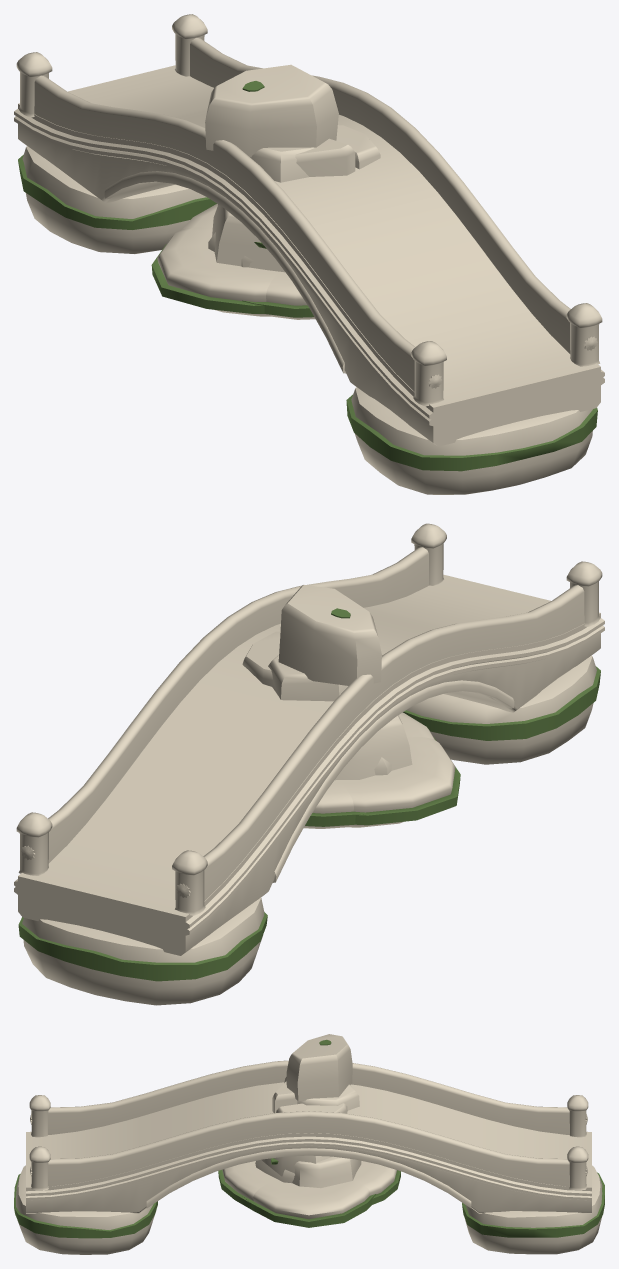
File: BlossomSanctuary_Stones.fbx
The picture shows the model from 3 angles, top to bottom: view 1: azimuth 30°, elevation 25°; view 2: azimuth 150°, elevation 25°; view 3: azimuth 270°, elevation 25°; orthographic projection. The views are drawn at different scales.
Parts seen in each view (by area): view 1: BS_Bridge__Stone, BS_EdgeRockC__Stone, BS_Bridge__Moss, BS_SteppingStoneB__Stone, BS_EdgeRockB__Stone, BS_SteppingStoneB__Moss, BS_SteppingStoneA__Stone, BS_SteppingStoneA__Moss; view 2: BS_Bridge__Stone, BS_EdgeRockC__Stone, BS_Bridge__Moss, BS_SteppingStoneB__Stone, BS_SteppingStoneB__Moss, BS_SteppingStoneA__Stone, BS_EdgeRockB__Stone, BS_SteppingStoneA__Moss; view 3: BS_Bridge__Stone, BS_EdgeRockC__Stone, BS_Bridge__Moss, BS_SteppingStoneB__Stone, BS_SteppingStoneA__Stone, BS_EdgeRockA__Stone, BS_EdgeRockB__Stone, BS_SteppingStoneB__Moss, BS_SteppingStoneA__Moss.
Boxes of the visible parts, x1=… form: BS_Bridge__Stone: x1=14, y1=14, x2=604, y2=494; BS_EdgeRockC__Stone: x1=205, y1=64, x2=338, y2=272; BS_Bridge__Moss: x1=18, y1=154, x2=597, y2=471; BS_SteppingStoneB__Stone: x1=157, y1=227, x2=283, y2=316; BS_EdgeRockB__Stone: x1=208, y1=125, x2=380, y2=267; BS_SteppingStoneB__Moss: x1=151, y1=244, x2=264, y2=313; BS_SteppingStoneA__Stone: x1=182, y1=204, x2=315, y2=319; BS_SteppingStoneA__Moss: x1=242, y1=300, x2=313, y2=317; BS_Bridge__Stone: x1=14, y1=523, x2=604, y2=1005; BS_EdgeRockC__Stone: x1=268, y1=585, x2=412, y2=780; BS_Bridge__Moss: x1=18, y1=666, x2=600, y2=981; BS_SteppingStoneB__Stone: x1=334, y1=737, x2=455, y2=827; BS_SteppingStoneB__Moss: x1=355, y1=767, x2=460, y2=825; BS_SteppingStoneA__Stone: x1=304, y1=712, x2=434, y2=828; BS_EdgeRockB__Stone: x1=242, y1=631, x2=391, y2=775; BS_SteppingStoneA__Moss: x1=305, y1=737, x2=435, y2=826; BS_Bridge__Stone: x1=16, y1=1060, x2=602, y2=1254; BS_EdgeRockC__Stone: x1=261, y1=1034, x2=359, y2=1176; BS_Bridge__Moss: x1=14, y1=1172, x2=604, y2=1238; BS_SteppingStoneB__Stone: x1=253, y1=1161, x2=370, y2=1218; BS_SteppingStoneA__Stone: x1=222, y1=1161, x2=396, y2=1200; BS_EdgeRockA__Stone: x1=292, y1=1156, x2=361, y2=1188; BS_EdgeRockB__Stone: x1=255, y1=1081, x2=347, y2=1183; BS_SteppingStoneB__Moss: x1=241, y1=1194, x2=376, y2=1227; BS_SteppingStoneA__Moss: x1=218, y1=1170, x2=400, y2=1209.
Bounding box in the file's own units: 12.56 × 10.19 × 31.33.
